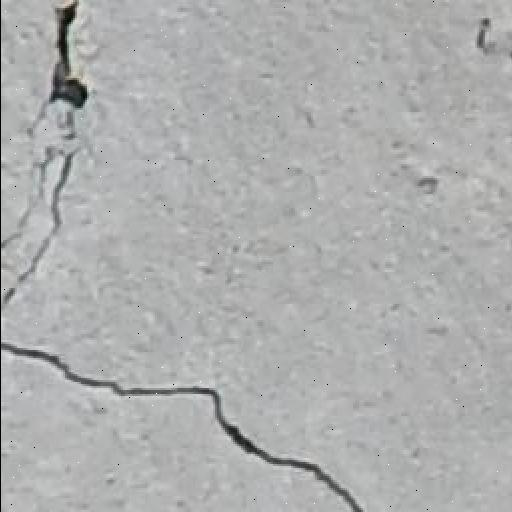spalling: (3, 336, 389, 511), (5, 7, 104, 320)
